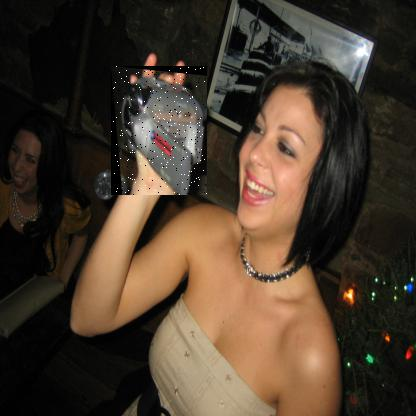Camera: (112, 67, 209, 197)
